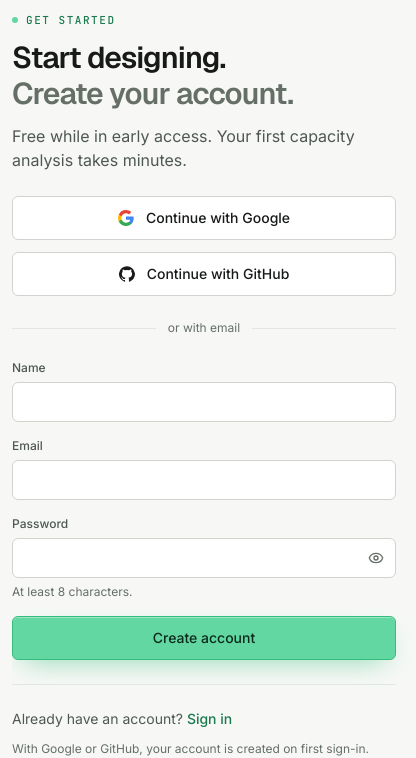
it: email and password › puts a taken email on the email field
Type "Ada" into the field labelled "Name".
click(204, 402); type("Ada")  # box [12,382,396,422]
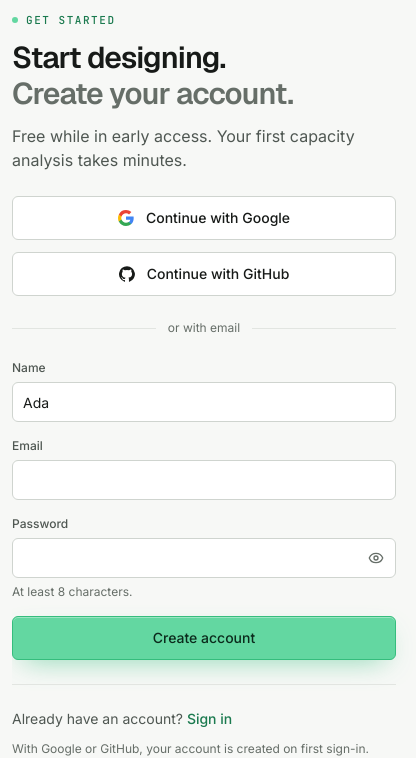
Type "ada@example.com" into the field labelled "Email".
click(204, 480); type("ada@example.com")  # box [12,460,396,500]
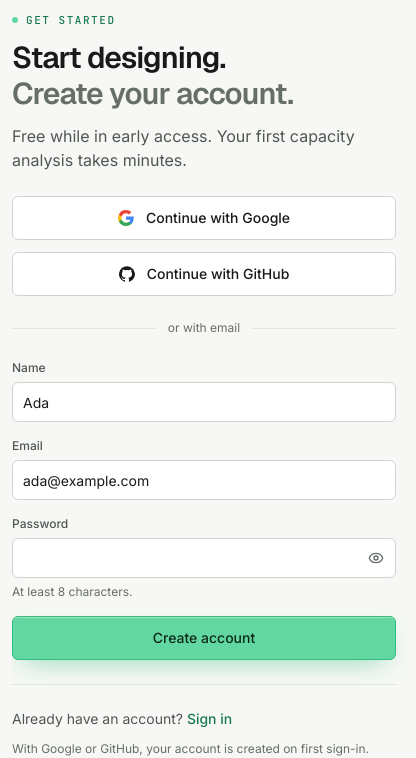
Type "long enough" into the password field labelled "Password".
click(204, 558); type("long enough")  # box [12,538,396,578]
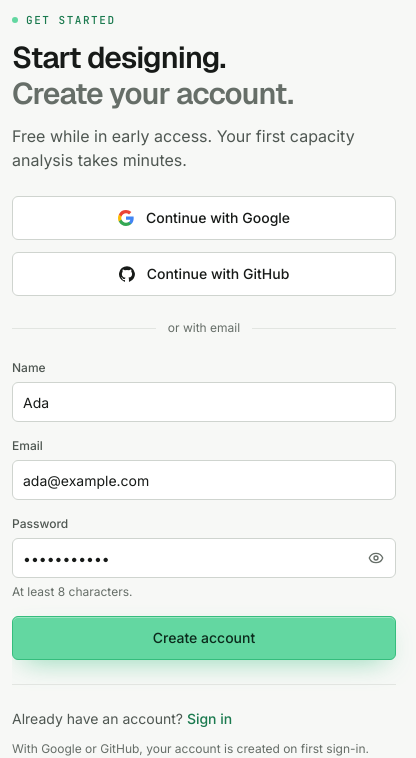
Click the button "Create account".
click(204, 638)  # box [12,616,396,660]
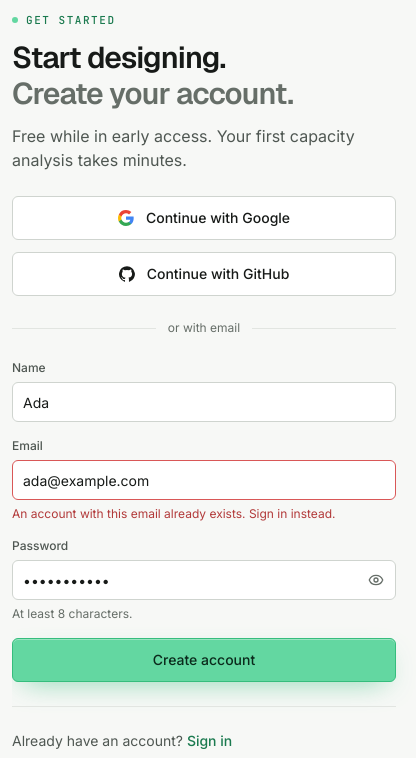
Expected: the text "An account with this email already exists. Sign in instead." is shown, [12,506,336,521]
